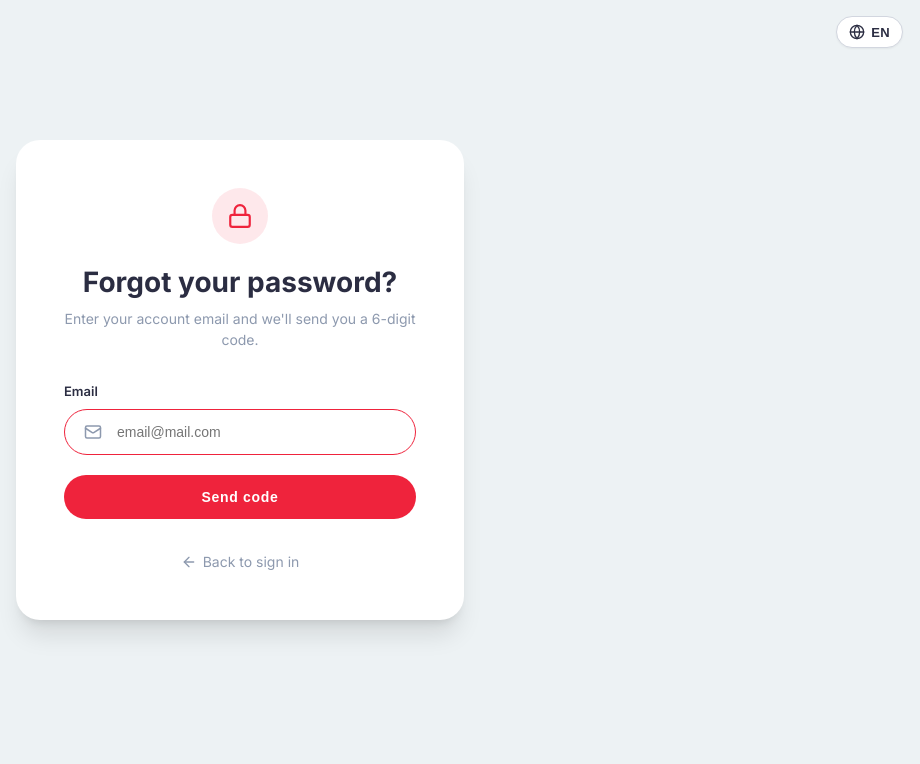
Test: ForgotPasswordPage › keeps only digits in the code field
Type "ana@example.com" into the field labelled "Email". click: (240, 432)
box: 64,409 -> 416,455
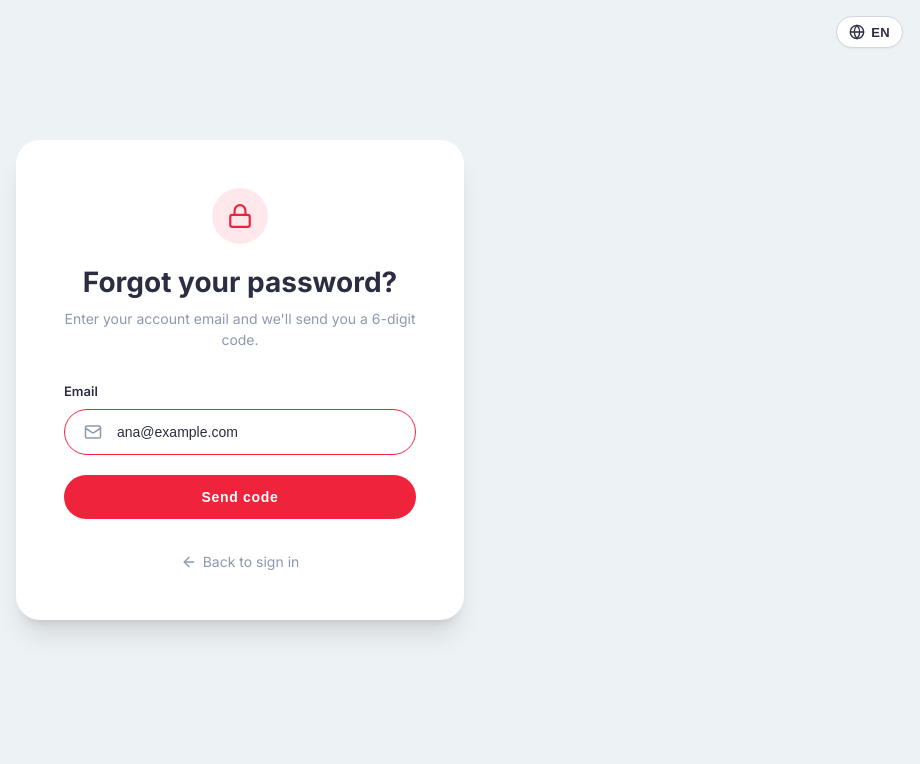
Click the button "Send code". click: (240, 497)
box: 64,475 -> 416,519
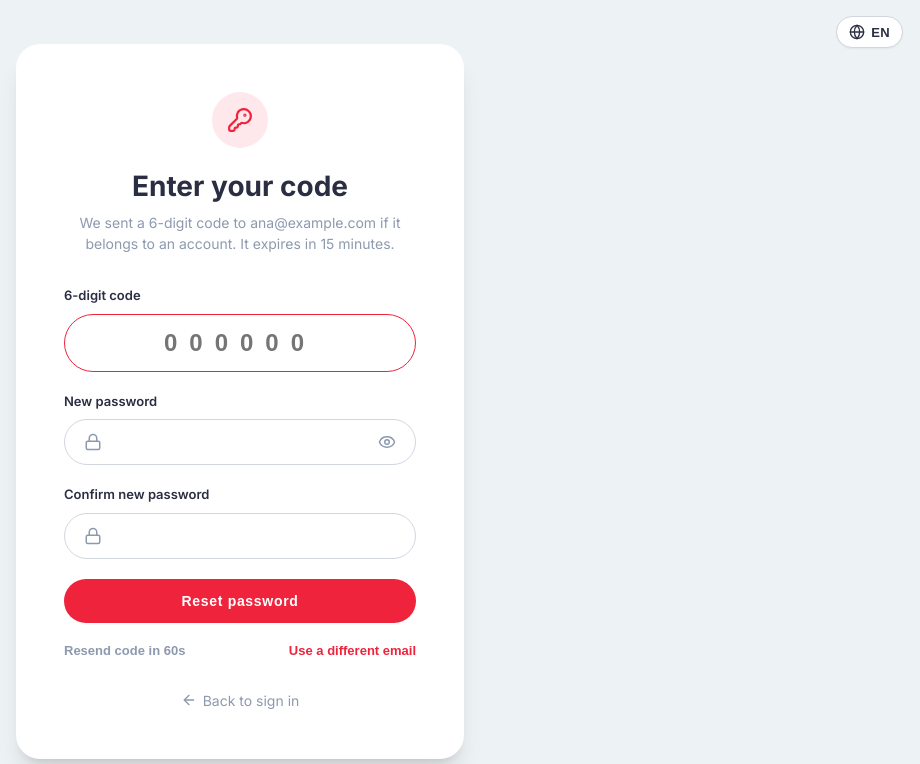
Expected: the field labelled "6-digit code" is shown
Type "12a3-45678" into the field labelled "6-digit code". click: (240, 342)
box: 64,314 -> 416,372
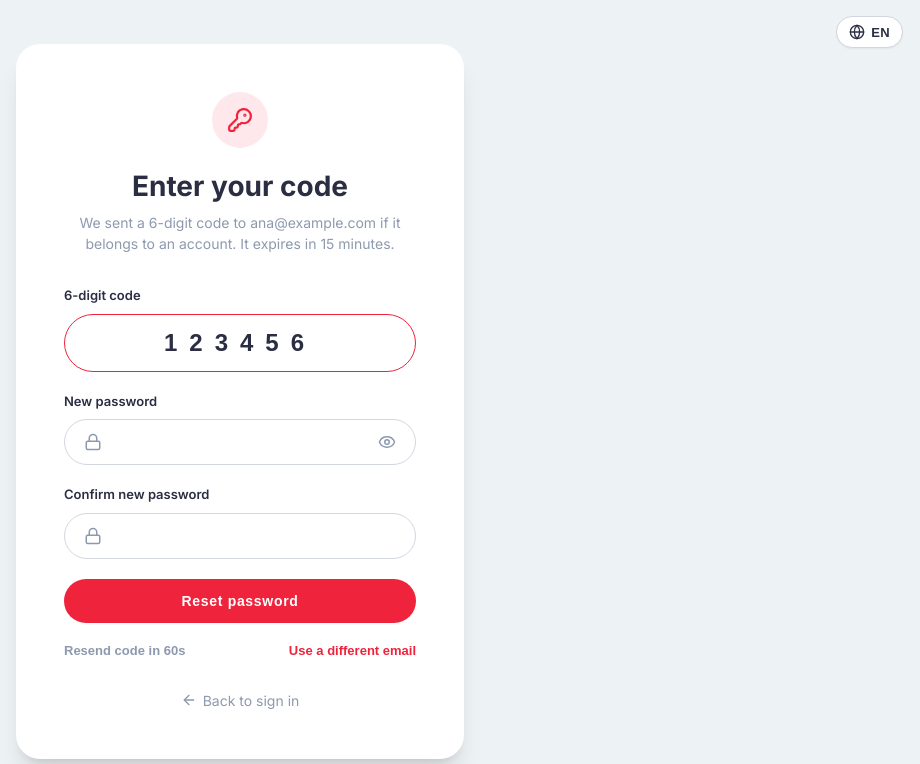
Expected: the field labelled "6-digit code" holds "123456", 64,314 -> 416,372
